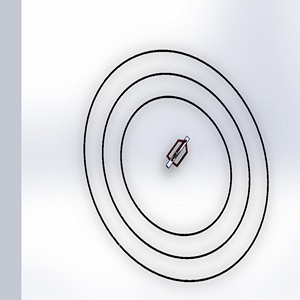circle: (80, 39, 269, 286)
submarine: (158, 129, 200, 183)
